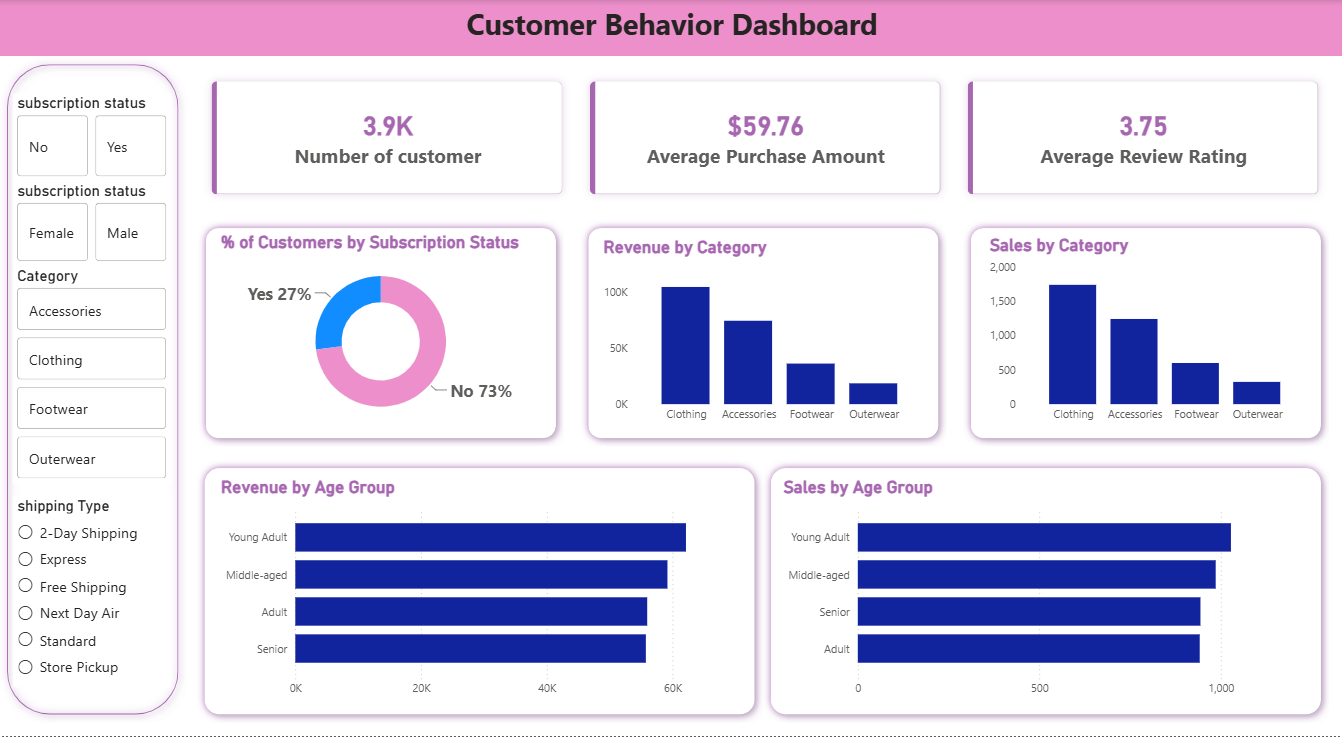

This screenshot's page, from the dashboard's own definition file:
{"tool":"powerbi","page":{"name":"Page 1","canvas":[1500,820],"ordinal":0},"visuals":[{"type":"shape","box":[220,512.5,630.9,292.5],"z":0},{"type":"shape","box":[1073.7,245.1,408.1,252.1],"z":1000},{"type":"shape","box":[647.6,245.1,408.1,252.1],"z":2000},{"type":"cardVisual","fields":{"Data":["customer_behavior customer.Number of customer","customer_behavior customer.Average Purchase Amount","customer_behavior customer.Average Review Rating"]},"box":[208.9,62.7,1291,182.4],"z":3000},{"type":"shape","box":[0,0,1499.9,62.7],"z":4000},{"type":"textbox","box":[0,0,1499.9,62.7],"z":5000},{"type":"shape","box":[221.4,245.1,408.1,252.1],"z":6000},{"type":"donutChart","title":"% of Customers by Subscription Status","fields":{"Category":["customer_behavior customer.subscription_status"],"Y":["CountNonNull(customer_behavior customer.customer_id)"]},"box":[242.3,259,366.3,221.4],"z":7000},{"type":"clusteredColumnChart","title":"Sales by Category","fields":{"Y":["CountNonNull(customer_behavior customer.purchase_amount)"],"Category":["customer_behavior customer.category"]},"box":[1098.8,261.8,363.5,218.6],"z":8000},{"type":"clusteredColumnChart","title":"Revenue by Category","fields":{"Y":["Sum(customer_behavior customer.purchase_amount)"],"Category":["customer_behavior customer.category"]},"box":[668.5,264.6,367.7,215.9],"z":9000},{"type":"shape","box":[0,62.7,208.9,742.3],"z":10000},{"type":"advancedSlicerVisual","title":"subscription status","fields":{"Values":["customer_behavior customer.subscription_status"]},"box":[15.3,104.5,176.9,97.5],"z":11000},{"type":"advancedSlicerVisual","title":"subscription status","fields":{"Values":["customer_behavior customer.gender"]},"box":[15.3,201.9,176.9,94.7],"z":12000},{"type":"advancedSlicerVisual","title":"Category","fields":{"Values":["customer_behavior customer.category"]},"box":[15.3,296.6,176.9,242.3],"z":13000},{"type":"listSlicer","title":"shipping Type","fields":{"Values":["customer_behavior customer.shipping_type"]},"box":[15.3,552.9,176.9,213.1],"z":14000},{"type":"clusteredBarChart","title":"Revenue by Age Group","fields":{"Y":["Sum(customer_behavior customer.purchase_amount)"],"Category":["customer_behavior customer.age_group"]},"box":[242.3,532,593.3,253.5],"z":15000},{"type":"shape","box":[850.9,512.5,630.9,292.5],"z":16000},{"type":"clusteredBarChart","title":"Sales by Age Group","fields":{"Y":["CountNonNull(customer_behavior customer.customer_id)"],"Category":["customer_behavior customer.age_group"]},"box":[869,532,593.3,253.5],"z":17000}]}

Visuals, with their boxes in screenshot pixels (x1, y1, x2, y2), scaled from the page's 1500x820 canvas onto the 1342x737 screenshot:
shape: (197, 461, 761, 724)
shape: (961, 220, 1326, 447)
shape: (579, 220, 944, 447)
cardVisual - customer_behavior customer.Number of customer x customer_behavior customer.Average Purchase Amount: (187, 56, 1341, 220)
shape: (0, 0, 1341, 56)
textbox: (0, 0, 1341, 56)
shape: (198, 220, 563, 447)
"% of Customers by Subscription Status" donutChart: (217, 233, 544, 432)
"Sales by Category" clusteredColumnChart: (983, 235, 1308, 432)
"Revenue by Category" clusteredColumnChart: (598, 238, 927, 432)
shape: (0, 56, 187, 724)
"subscription status" advancedSlicerVisual: (14, 94, 172, 182)
"subscription status" advancedSlicerVisual: (14, 181, 172, 267)
"Category" advancedSlicerVisual: (14, 267, 172, 484)
"shipping Type" listSlicer: (14, 497, 172, 688)
"Revenue by Age Group" clusteredBarChart: (217, 478, 748, 706)
shape: (761, 461, 1326, 724)
"Sales by Age Group" clusteredBarChart: (777, 478, 1308, 706)
